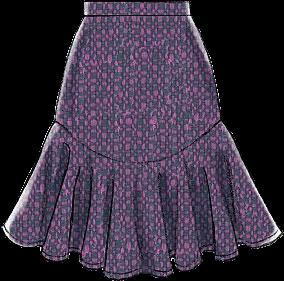Hemline: (1, 226, 283, 279)
Waistline: (54, 118, 221, 163), (84, 13, 190, 18), (84, 0, 188, 3)
